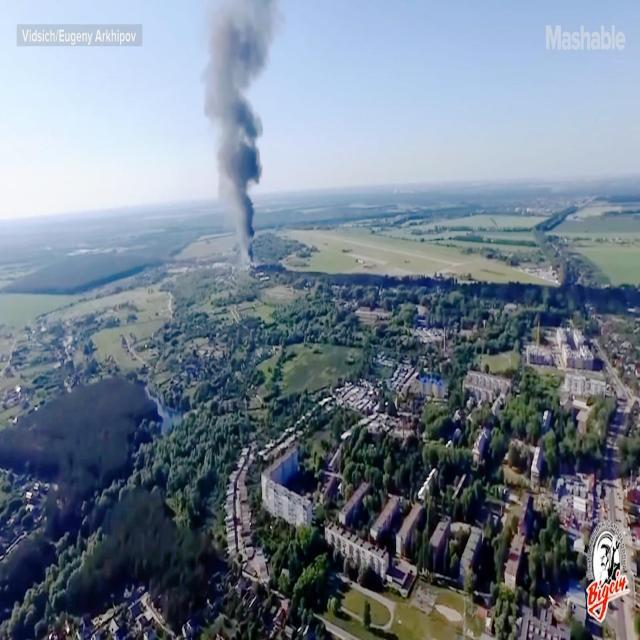Smoke: (202, 0, 281, 261)
